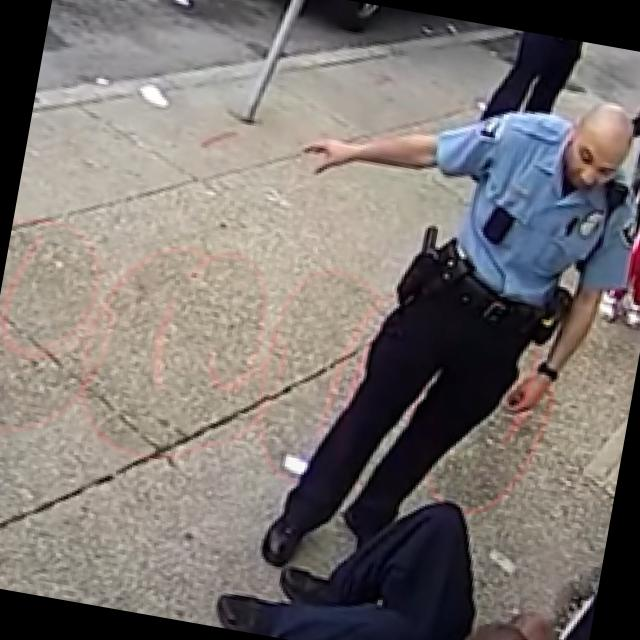person: (227, 45, 640, 617), (212, 463, 605, 640), (596, 57, 640, 326), (477, 26, 582, 138)
